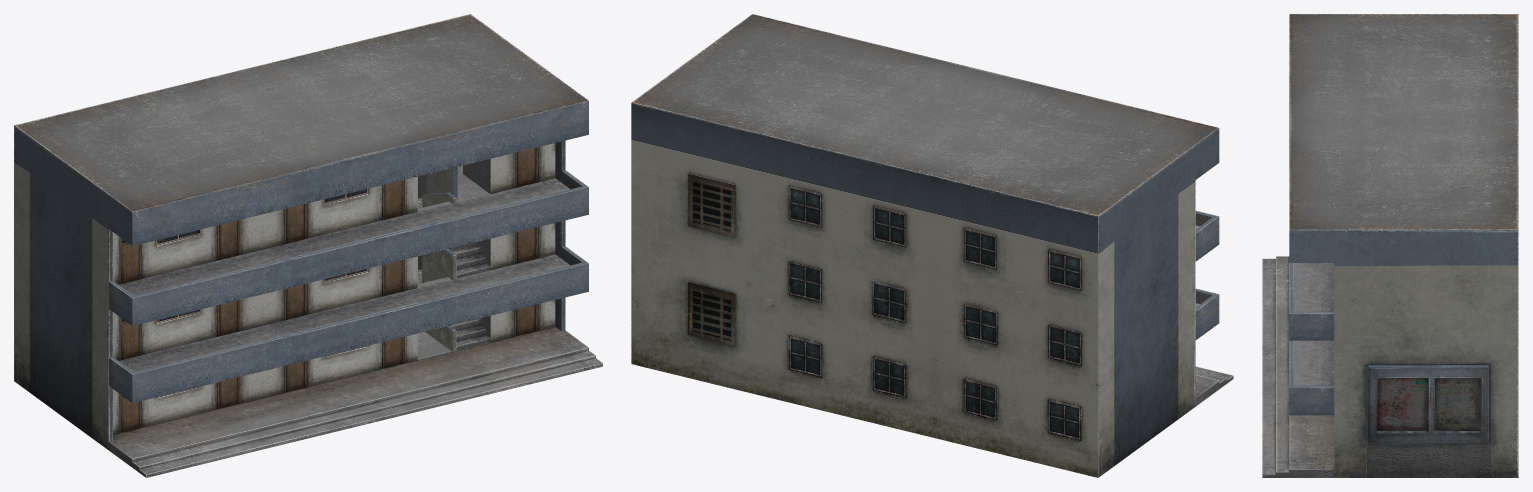
The model's file is buildings_15.FBX.
3 renders of one model, left to right at view 1: azimuth 30°, elevation 25°; view 2: azimuth 150°, elevation 25°; view 3: azimuth 270°, elevation 25°, orthographic. The views are drawn at different scales.
Parts seen in each view (by area): view 1: Object005; view 2: Object005; view 3: Object005.
Boxes of the visible parts, <box> form: Object005: <box>14,14,602,477</box>; Object005: <box>631,14,1233,477</box>; Object005: <box>1262,14,1518,477</box>.
Size of the model in its own units: 2001 by 993 by 1060.
Materials: 1 (1 with a texture image).
